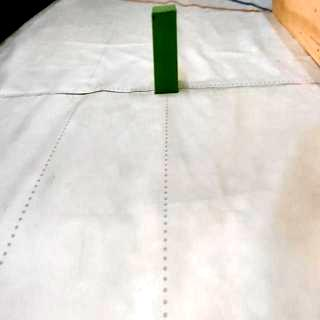greenbox: (150, 5, 180, 94)
